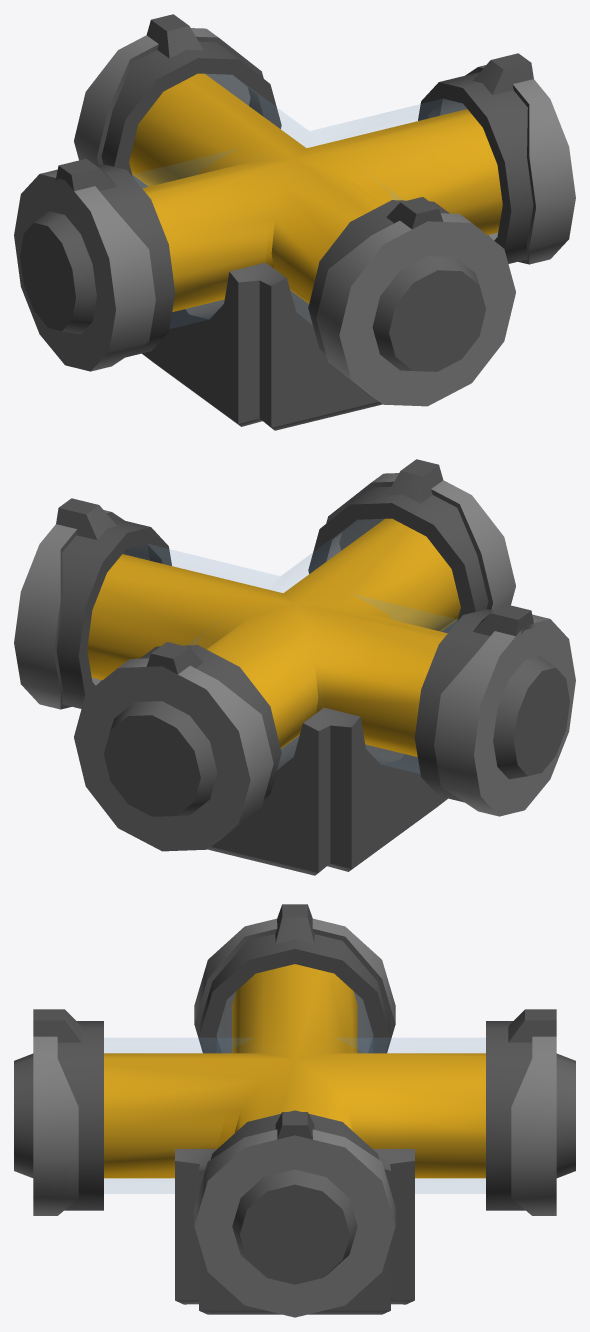
The model's file is Liquid_AnyColor_Pipe_04_Way.fbx.
3 views of the same model, one above another, from view 1: azimuth 30°, elevation 25°; view 2: azimuth 150°, elevation 25°; view 3: azimuth 270°, elevation 25° (orthographic).
Visible parts, largest first — view 1: Liquid_AnyColor_Pipe_04_Way; view 2: Liquid_AnyColor_Pipe_04_Way; view 3: Liquid_AnyColor_Pipe_04_Way.
Part boxes in pixels (x1,y1,x2,y2): Liquid_AnyColor_Pipe_04_Way: (14, 14, 575, 430); Liquid_AnyColor_Pipe_04_Way: (14, 459, 575, 875); Liquid_AnyColor_Pipe_04_Way: (14, 904, 575, 1317).
Bounding box in the file's own units: 215 × 107 × 215.
